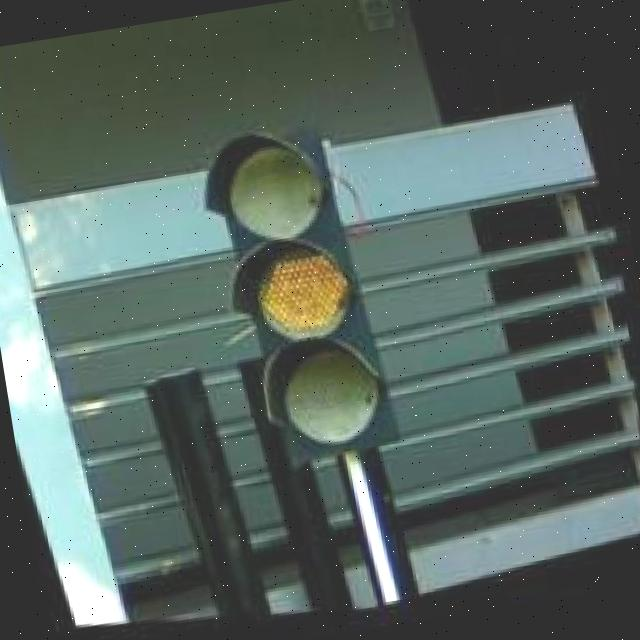yellow_light: (175, 101, 444, 494)
